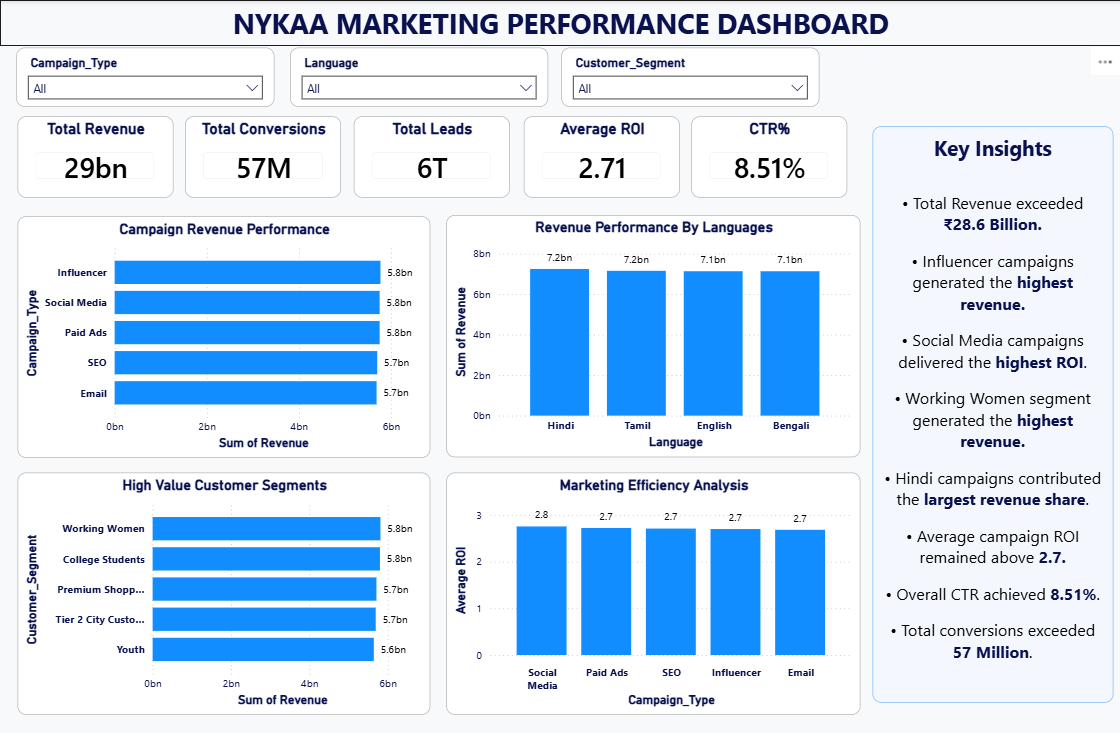

This screenshot's page, from the dashboard's own definition file:
{"tool":"powerbi","page":{"name":"Page 1","canvas":[1300,850],"ordinal":0},"visuals":[{"type":"cardVisual","title":"Total Revenue","fields":{"Data":["Sum(marketing_campaign_cleaned.Revenue)"]},"box":[20.6,135.1,180.6,94],"z":0},{"type":"cardVisual","title":"Total Conversions","fields":{"Data":["Sum(marketing_campaign_cleaned.Conversions)"]},"box":[214.4,134.7,181.1,94.2],"z":1000},{"type":"cardVisual","title":"Average ROI","fields":{"Data":["Avg(marketing_campaign_cleaned.ROI)"]},"box":[606.5,135.1,180.6,94],"z":2000},{"type":"cardVisual","title":"CTR%","fields":{"Data":["marketing_campaign_cleaned.CTR %"]},"box":[800.4,135.1,180.6,94],"z":3000},{"type":"clusteredBarChart","title":"Campaign Revenue Performance","fields":{"Category":["marketing_campaign_cleaned.Campaign_Type"],"Y":["Sum(marketing_campaign_cleaned.Revenue)"]},"box":[20,250,478.8,280],"z":4000},{"type":"clusteredBarChart","title":"High Value Customer Segments","fields":{"Y":["Sum(marketing_campaign_cleaned.Revenue)"],"Category":["marketing_campaign_cleaned.Customer_Segment"]},"box":[20,547.8,478.8,280.5],"z":5000},{"type":"columnChart","title":"Revenue Performance By Languages","fields":{"Category":["marketing_campaign_cleaned.Language"],"Y":["Sum(marketing_campaign_cleaned.Revenue)"]},"box":[516.9,249.7,480.2,280.5],"z":6000},{"type":"columnChart","title":"Marketing Efficiency Analysis","fields":{"Category":["marketing_campaign_cleaned.Campaign_Type"],"Y":["marketing_campaign_cleaned.Average ROI"]},"box":[516.9,547.8,480.2,280.5],"z":7000},{"type":"slicer","fields":{"Values":["marketing_campaign_cleaned.Campaign_Type"]},"box":[19.1,54.3,299.6,69],"z":8000},{"type":"slicer","fields":{"Values":["marketing_campaign_cleaned.Customer_Segment"]},"box":[650.6,54.3,299.6,69],"z":9000},{"type":"slicer","fields":{"Values":["marketing_campaign_cleaned.Language"]},"box":[336,54.3,299.6,69],"z":10000},{"type":"cardVisual","title":"Total Leads","fields":{"Data":["Sum(marketing_campaign_cleaned.Total Leads)"]},"box":[409.7,135.1,180.6,94],"z":11000},{"type":"textbox","box":[0,0,1299.7,54],"z":12000},{"type":"textbox","box":[1010.4,146.9,279,668.2],"z":13000}]}

Visuals, with their boxes in screenshot pixels (x1, y1, x2, y2), scaled from the page's 1300x850 canvas onto the 1120x733 screenshot:
"Total Revenue" cardVisual: locate(18, 117, 173, 198)
"Total Conversions" cardVisual: locate(185, 116, 341, 197)
"Average ROI" cardVisual: locate(523, 117, 678, 198)
"CTR%" cardVisual: locate(690, 117, 845, 198)
"Campaign Revenue Performance" clusteredBarChart: locate(17, 216, 430, 457)
"High Value Customer Segments" clusteredBarChart: locate(17, 472, 430, 714)
"Revenue Performance By Languages" columnChart: locate(445, 215, 859, 457)
"Marketing Efficiency Analysis" columnChart: locate(445, 472, 859, 714)
slicer - marketing_campaign_cleaned.Campaign_Type: locate(16, 47, 275, 106)
slicer - marketing_campaign_cleaned.Customer_Segment: locate(561, 47, 819, 106)
slicer - marketing_campaign_cleaned.Language: locate(289, 47, 548, 106)
"Total Leads" cardVisual: locate(353, 117, 509, 198)
textbox: locate(0, 0, 1119, 47)
textbox: locate(870, 127, 1111, 703)
